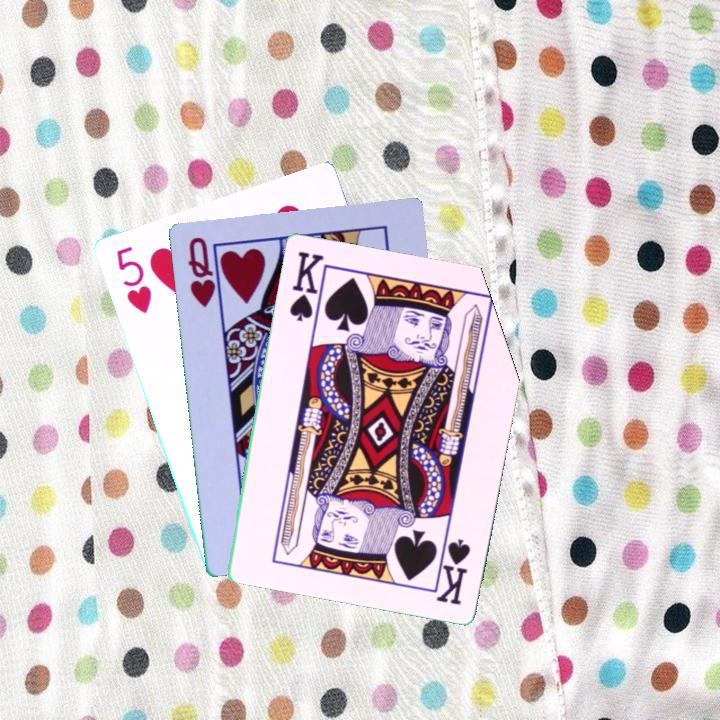5h: (112, 242, 154, 317)
Ks: (285, 247, 327, 324), (434, 535, 473, 607)
Qh: (183, 233, 218, 310)
